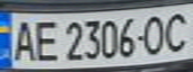0: (100, 16, 121, 60)
2: (60, 17, 84, 62)
3: (81, 17, 103, 61)
6: (115, 15, 142, 58)
A: (6, 17, 39, 63)
C: (160, 9, 193, 54)
E: (30, 17, 60, 63)
O: (139, 11, 172, 56)
